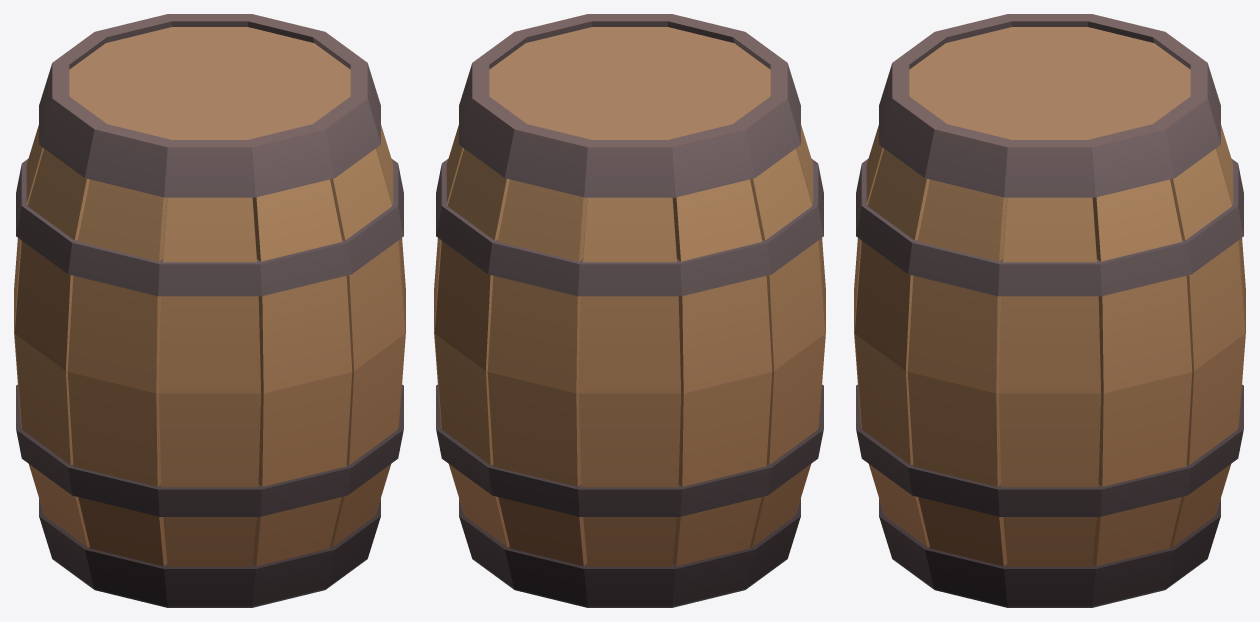
Rendered from SM_Barrell_Closed_01.fbx.
3 renders of one model, left to right at view 1: azimuth 30°, elevation 25°; view 2: azimuth 150°, elevation 25°; view 3: azimuth 270°, elevation 25°, orthographic.
Parts seen in each view (by area): view 1: SM_Barrell_Closed_01; view 2: SM_Barrell_Closed_01; view 3: SM_Barrell_Closed_01.
Part boxes in pixels (box(x1,y1,x2,y2)): SM_Barrell_Closed_01: box(14, 14, 405, 607); SM_Barrell_Closed_01: box(434, 14, 825, 607); SM_Barrell_Closed_01: box(854, 14, 1245, 607).
Size of the model in its own units: 86.04 by 112 by 86.04.
